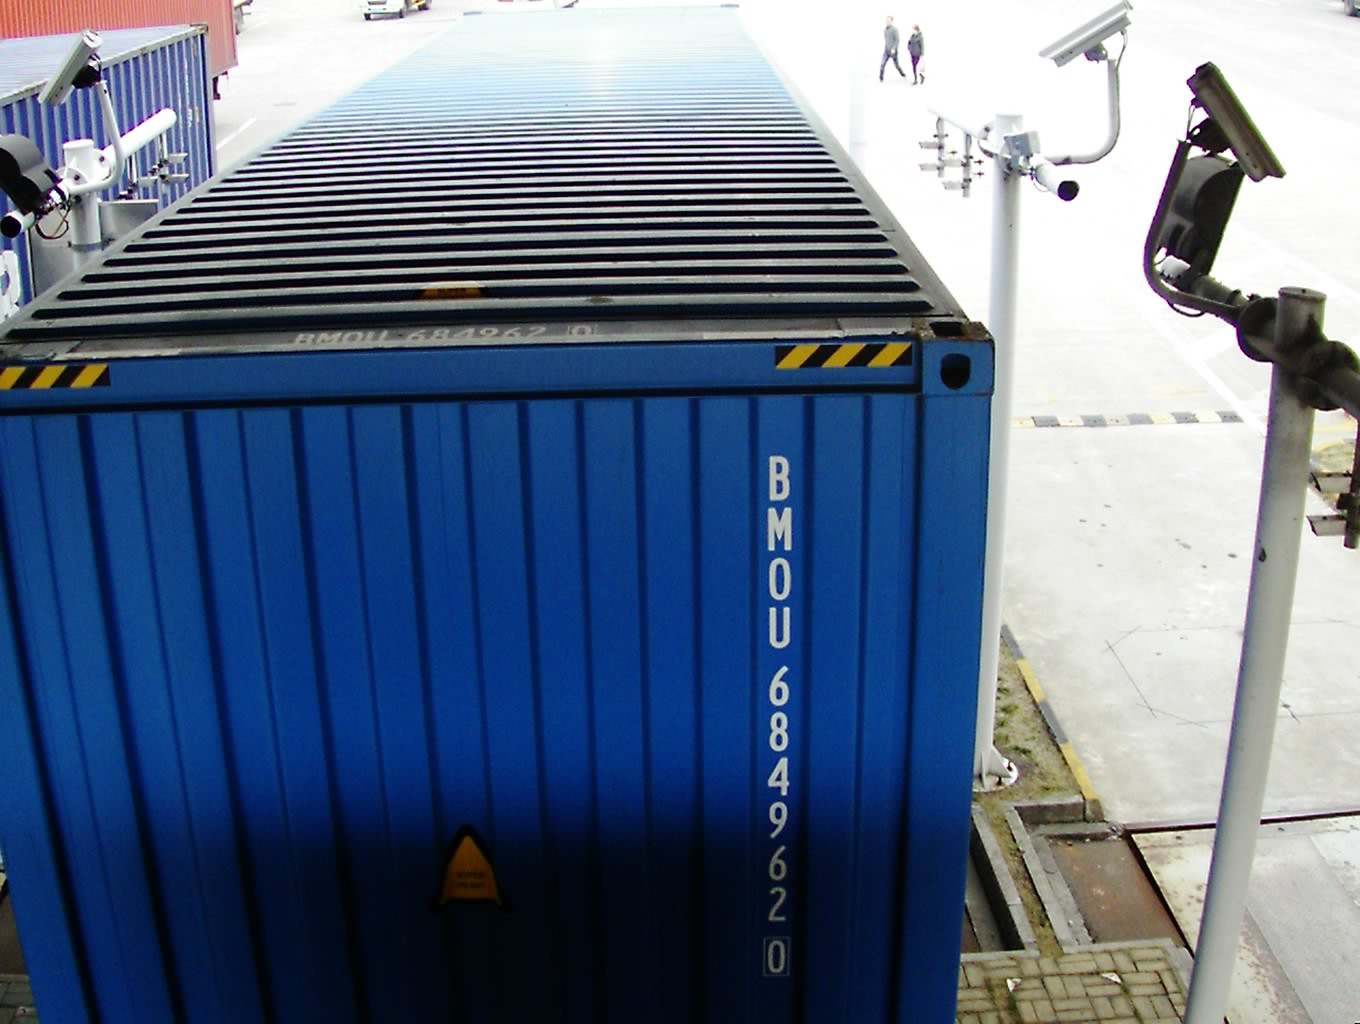words: (749, 445, 800, 983)
